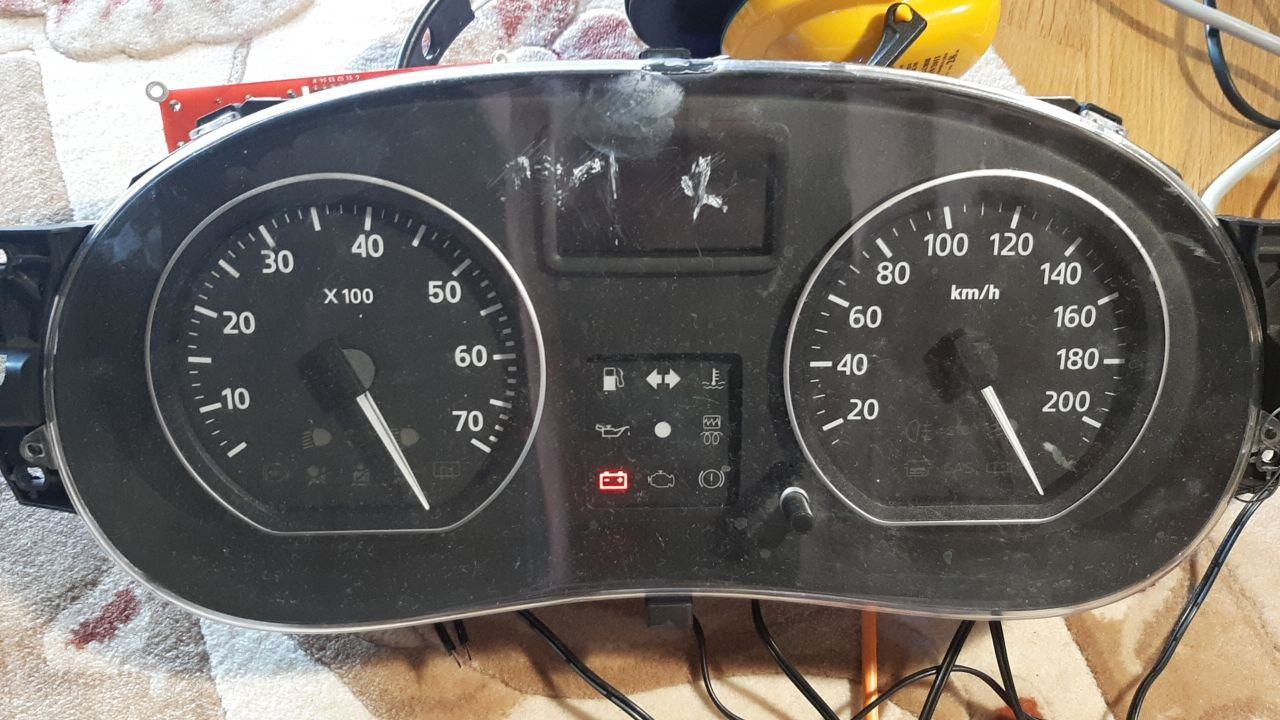accumulator: (593, 468, 630, 493)
